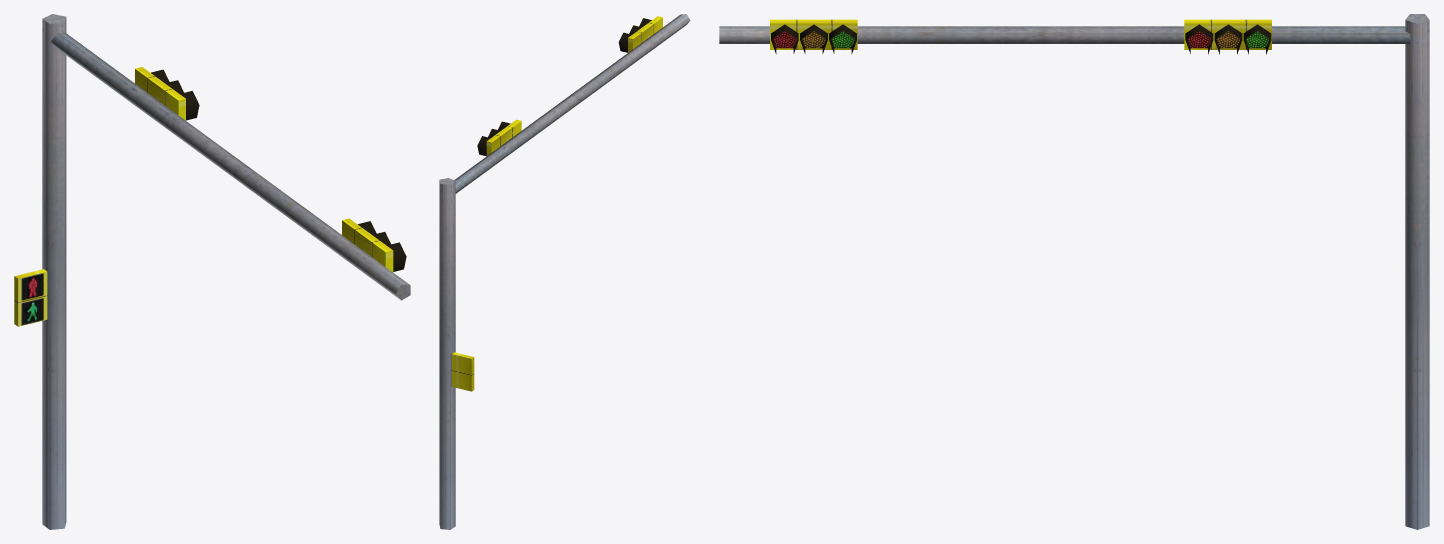
Rendered from trafficlight_a.FBX.
3 renders of one model, left to right at view 1: azimuth 30°, elevation 25°; view 2: azimuth 150°, elevation 25°; view 3: azimuth 270°, elevation 25°, orthographic. The views are drawn at different scales.
Parts seen in each view (by area): view 1: prop_trafficlightA_LOD0; view 2: prop_trafficlightA_LOD0; view 3: prop_trafficlightA_LOD0.
Boxes of the visible parts, x1,y1,x2,y2 form: prop_trafficlightA_LOD0: (14, 14, 410, 529); prop_trafficlightA_LOD0: (439, 14, 690, 529); prop_trafficlightA_LOD0: (719, 14, 1429, 529).
Size of what is drawn, in the model's own units: 1.59 by 11.52 by 14.6.
